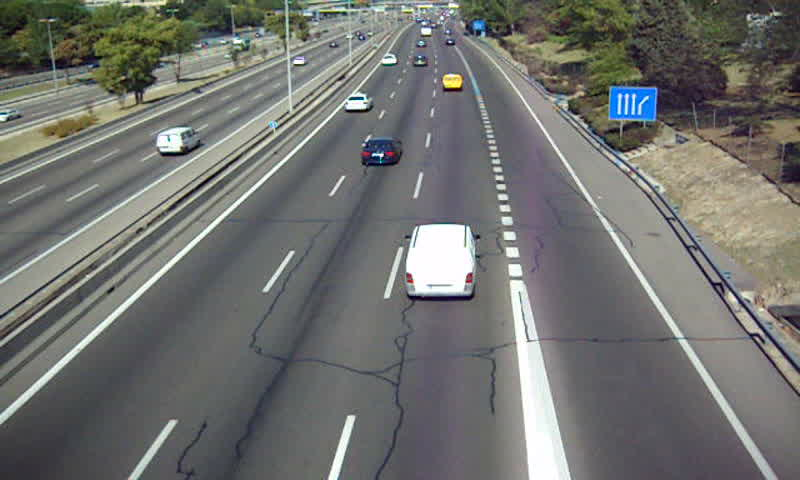car: (360, 138, 401, 165), (343, 93, 372, 112), (412, 53, 428, 69), (380, 53, 396, 65)
van: (405, 224, 476, 301), (442, 74, 462, 92)
